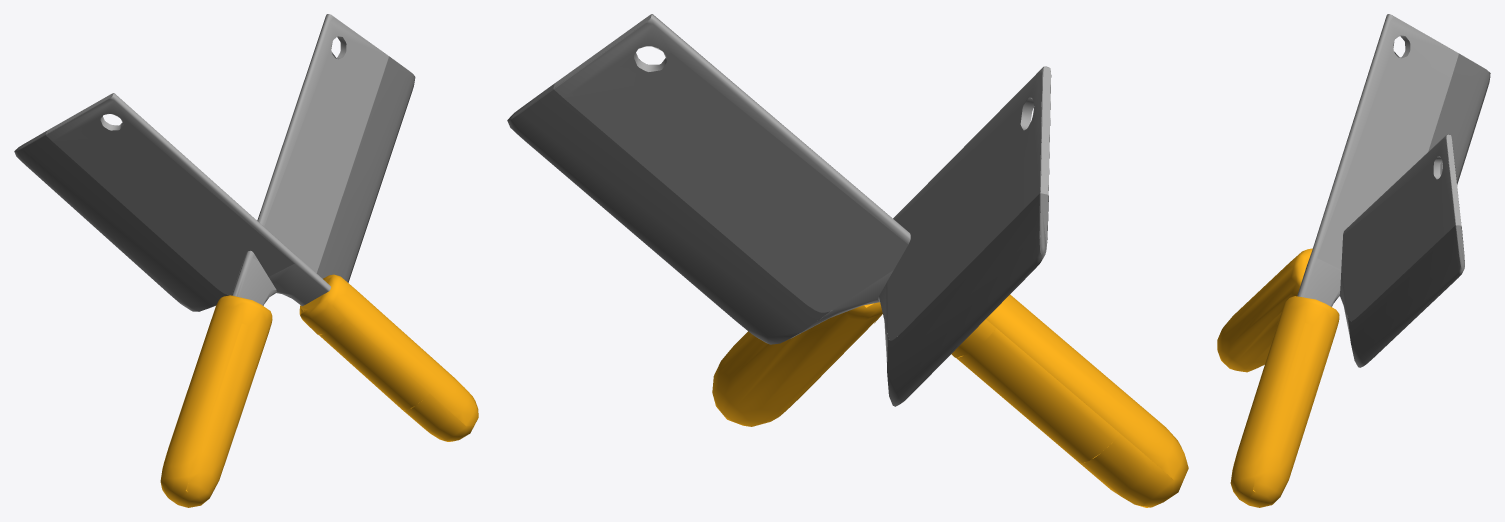
The model's file is knife-final-222.glb.
3 renders of one model, left to right at view 1: azimuth 30°, elevation 25°; view 2: azimuth 150°, elevation 25°; view 3: azimuth 270°, elevation 25°, orthographic. The views are drawn at different scales.
Parts seen in each view (by area): view 1: Plane.001ss.001; view 2: Plane.001ss.001; view 3: Plane.001ss.001.
Part boxes in pixels (x1,y1,x2,y2): Plane.001ss.001: [14, 14, 478, 507]; Plane.001ss.001: [507, 14, 1188, 507]; Plane.001ss.001: [1217, 14, 1490, 507].
Size of the model in its own units: 2.88 by 2.58 by 1.77.
